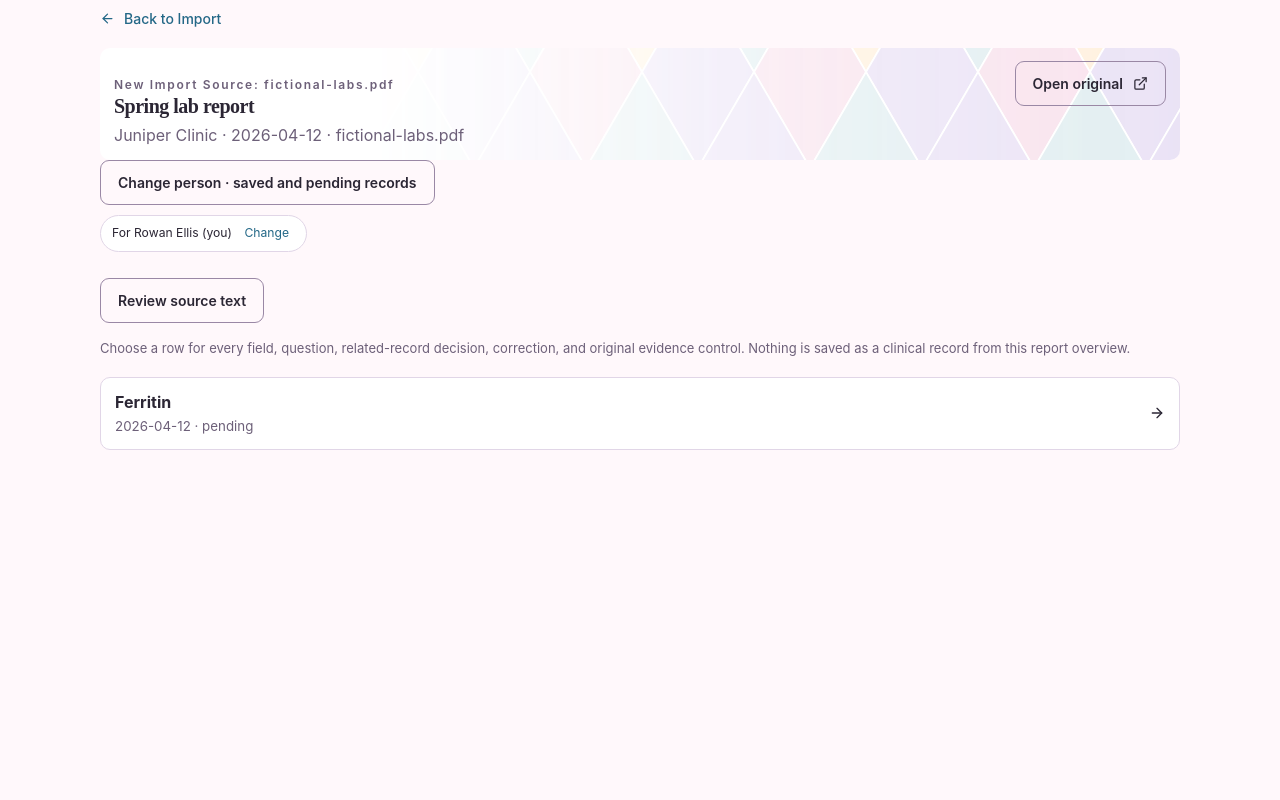
Scenario: refreshes blocked detail rows once after host grounding (ready=true)
The width and height of the screenshot is (1280, 800).
Click the button with aria-label "person for this report" at (204, 234), box left=100, top=215, right=307, bottom=252
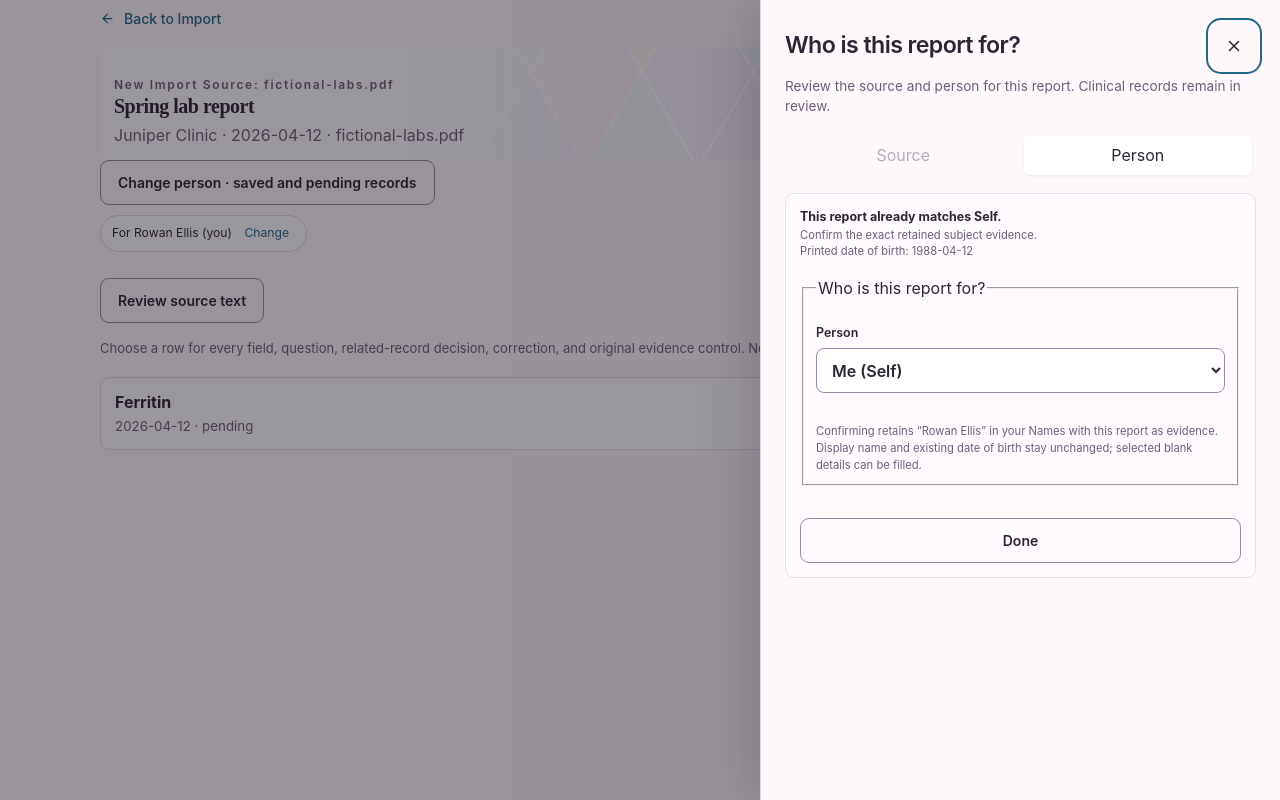
Check: the text "This report already matches Self." is shown, box left=800, top=209, right=1002, bottom=224
Click the button "Done" at (1020, 540), box left=800, top=518, right=1241, bottom=563
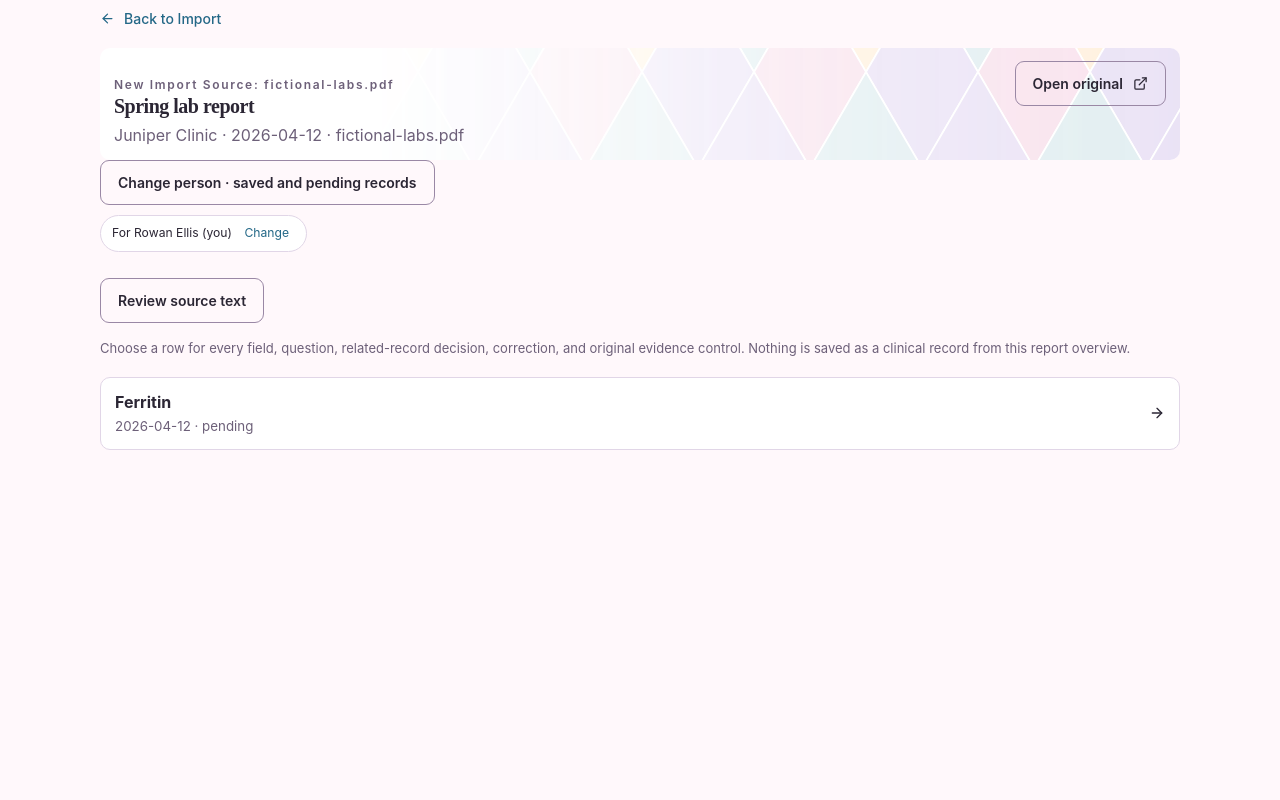
Check: the dialog is gone
